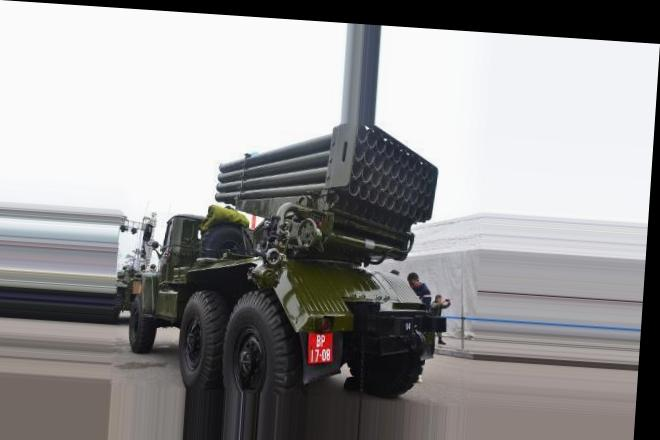License_Plate: (304, 331, 336, 368)
